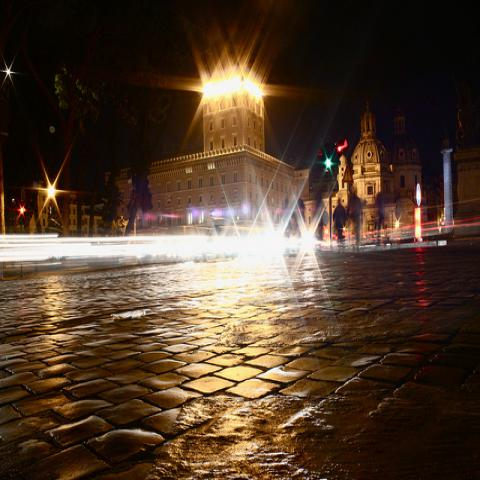car: (284, 240, 316, 257)
